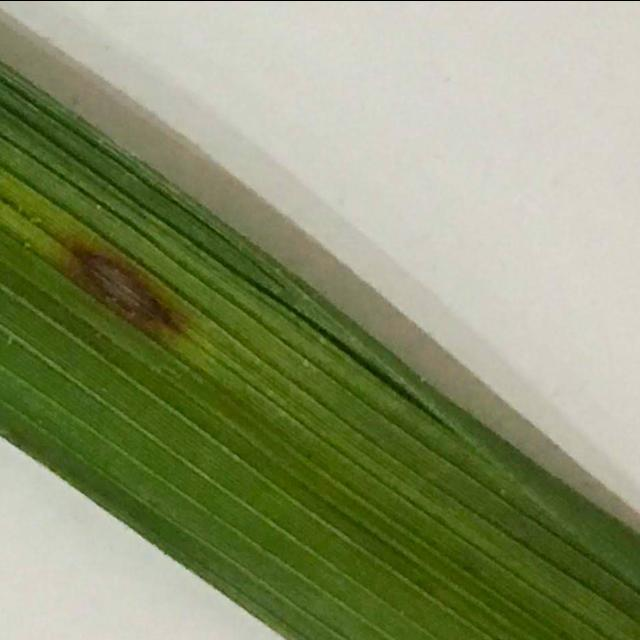Leaf blast: (58, 228, 197, 384)
